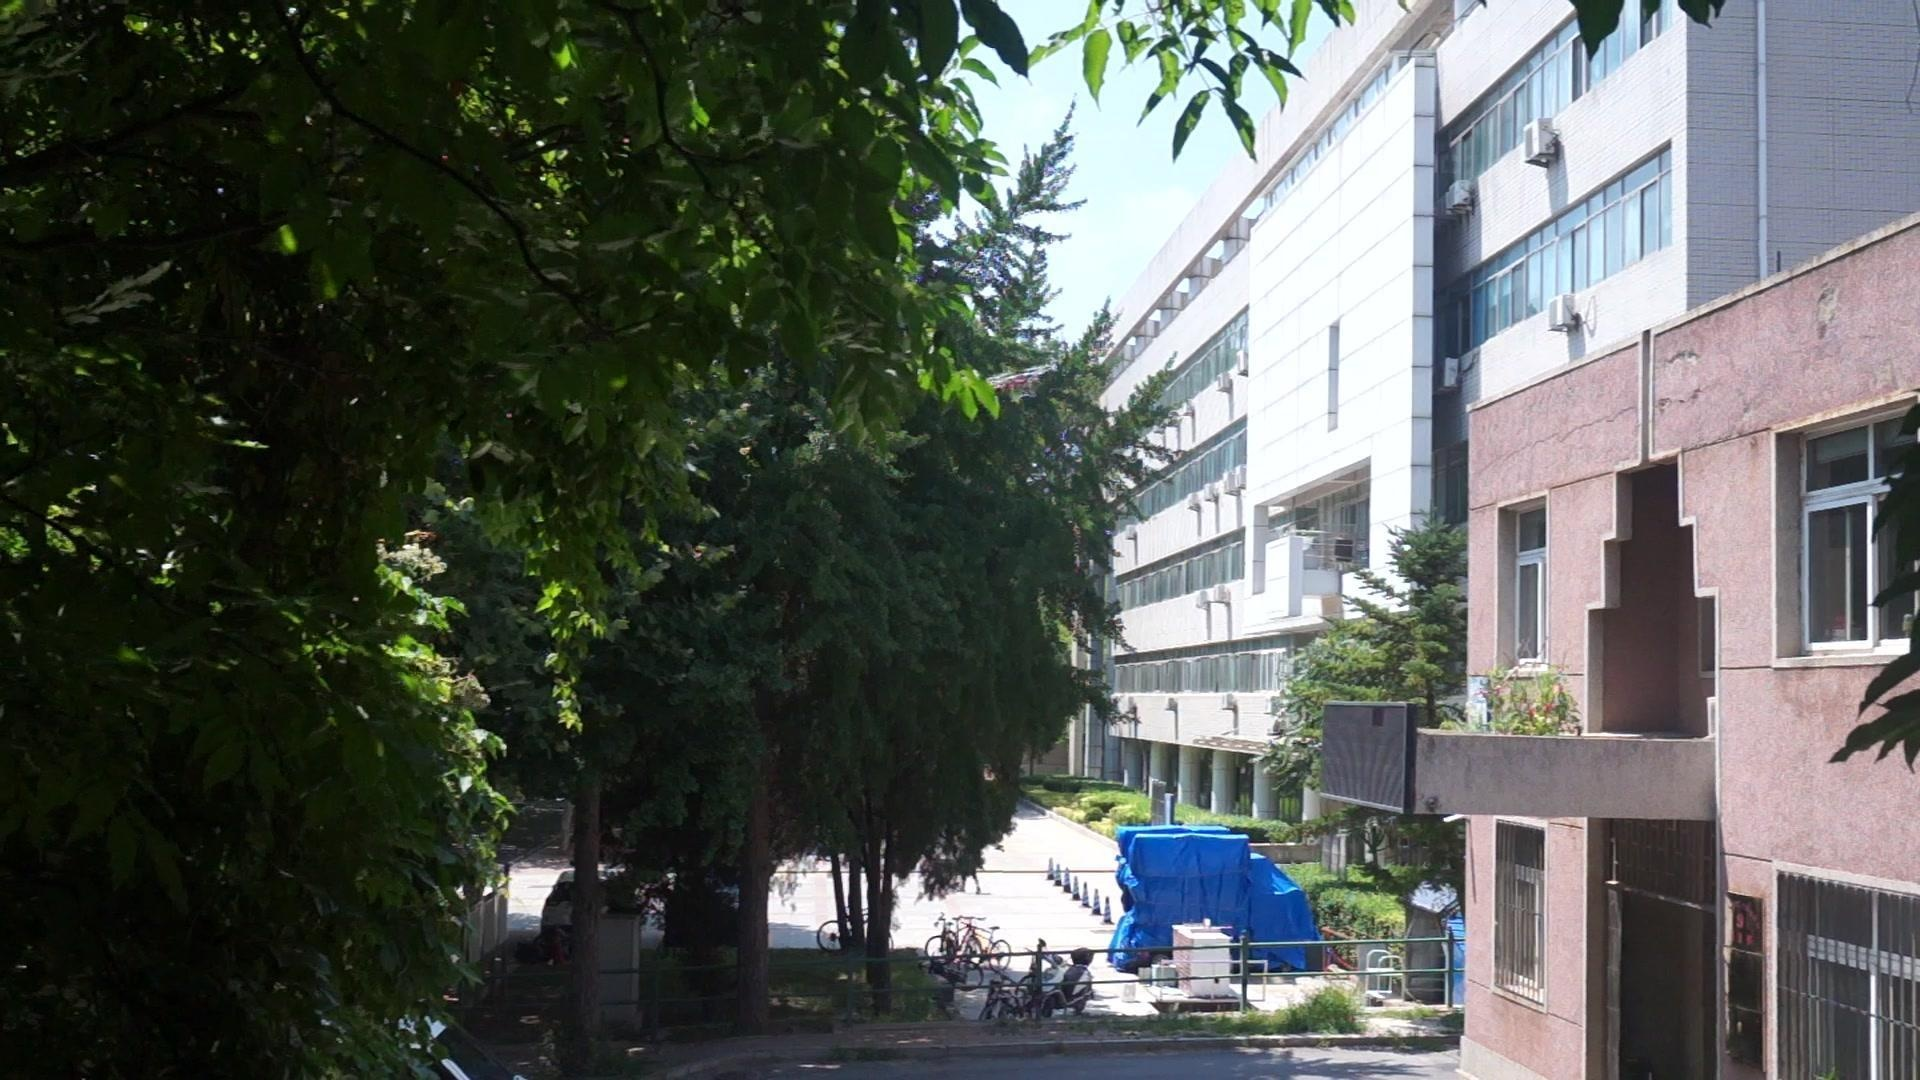UAV: (986, 367, 1054, 404)
